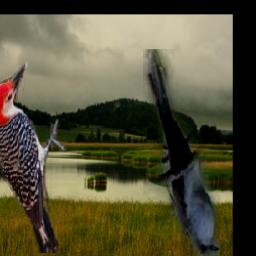Cuckoo: (143, 50, 220, 256)
Woodpecker: (0, 62, 69, 254)
